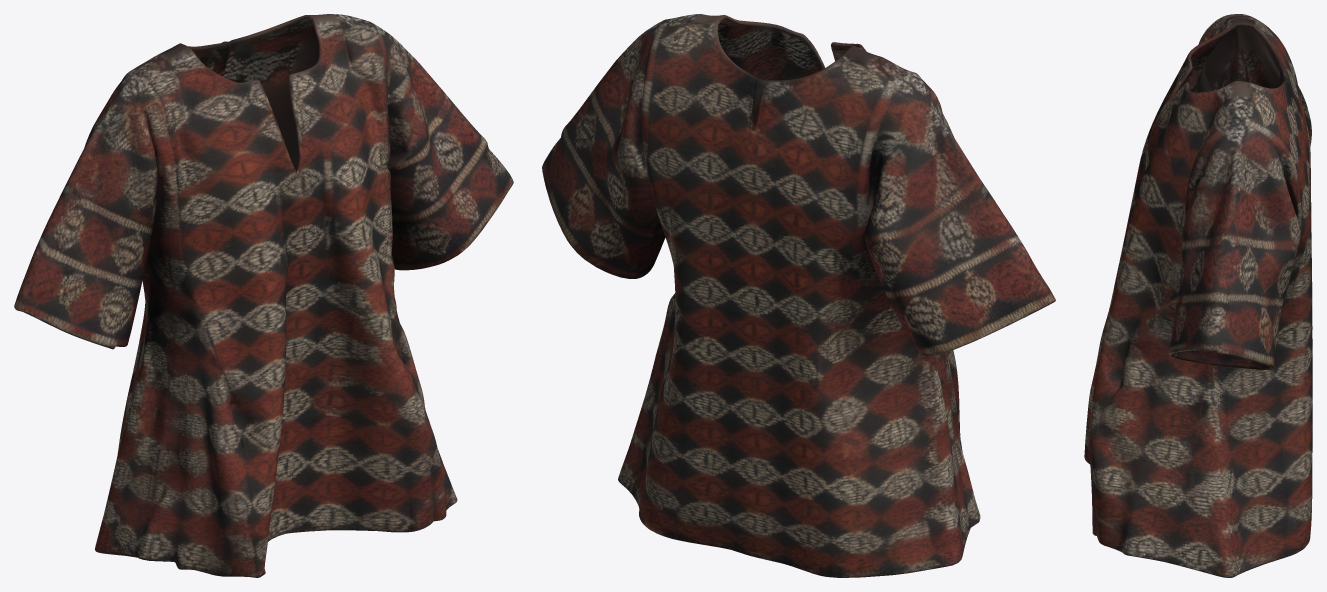
Rendered from dress-04.glb.
3 renders of one model, left to right at view 1: azimuth 30°, elevation 25°; view 2: azimuth 150°, elevation 25°; view 3: azimuth 270°, elevation 25°, orthographic. The views are drawn at different scales.
Visible parts, largest first — view 1: node_0; view 2: node_0; view 3: node_0.
Part boxes in pixels (x1=…): node_0: x1=14, y1=14, x2=513, y2=577; node_0: x1=542, y1=14, x2=1055, y2=577; node_0: x1=1084, y1=14, x2=1312, y2=577.
Bounding box in the file's own units: 1.05 × 0.9794 × 0.4461.
Materials: 1 (1 with a texture image).
